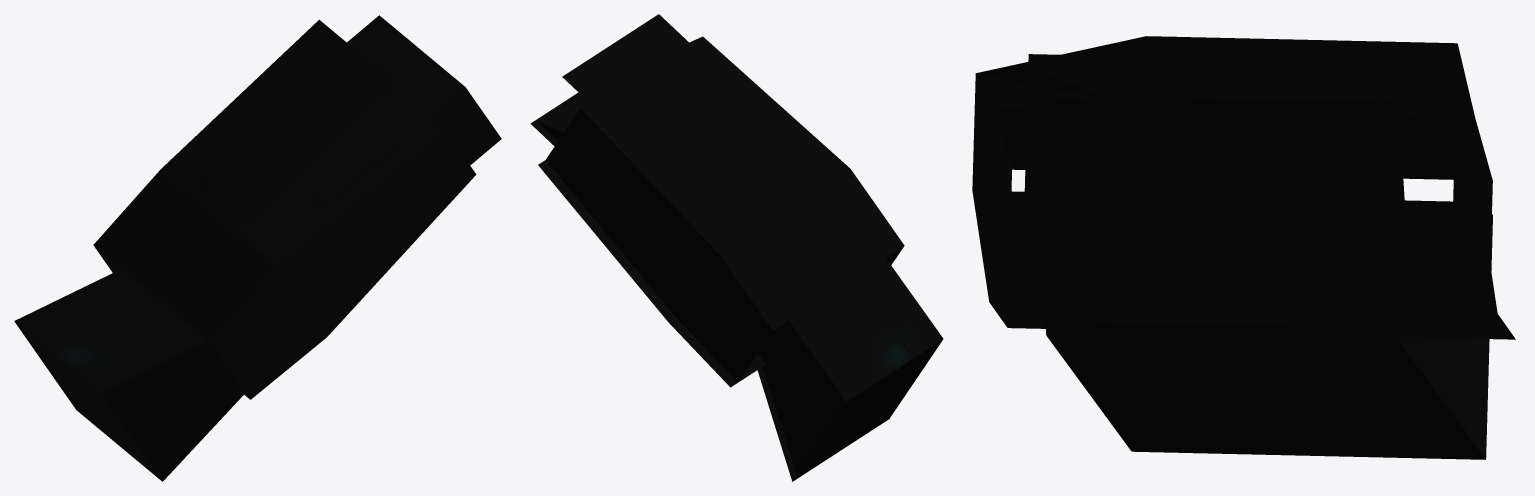
File: float_R_arm.obj
The picture shows the model from 3 angles, left to right: view 1: azimuth 30°, elevation 25°; view 2: azimuth 150°, elevation 25°; view 3: azimuth 270°, elevation 25°; orthographic projection. The views are drawn at different scales.
Parts seen in each view (by area): view 1: 立方体.004; view 2: 立方体.004; view 3: 立方体.004.
Boxes of the visible parts, box(x1,y1,x2,y2) form: 立方体.004: box(14, 15, 501, 481); 立方体.004: box(530, 14, 943, 481); 立方体.004: box(972, 36, 1515, 459).
Size of the model in its own units: 0.793 by 0.6946 by 0.5329.
Materials: 1 (1 with a texture image).
